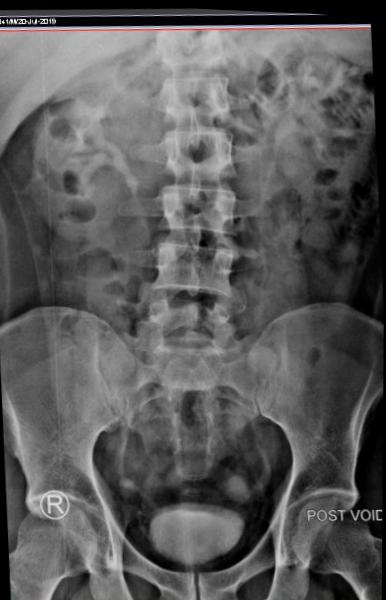bladder: (146, 502, 258, 597)
left kidney: (270, 33, 380, 220)
right kidney: (24, 68, 146, 259)
vertebrae: (158, 62, 246, 125)
